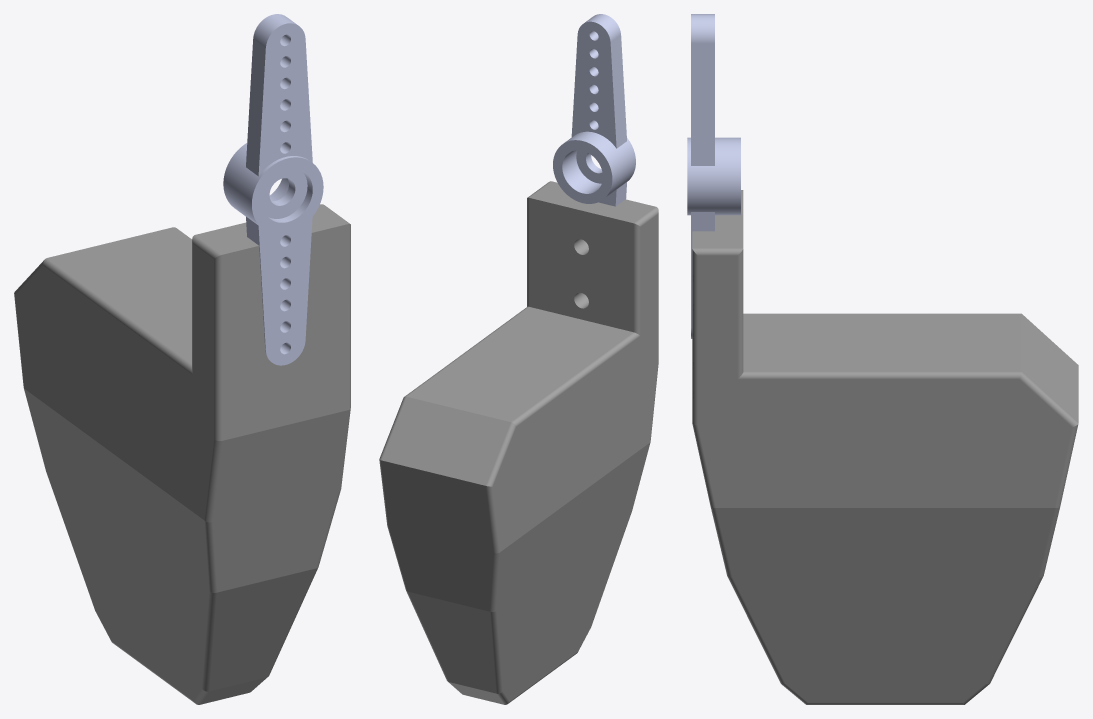
The model's file is finger_3_link2.dae.
The picture shows the model from 3 angles, left to right: view 1: azimuth 30°, elevation 25°; view 2: azimuth 150°, elevation 25°; view 3: azimuth 270°, elevation 25°; orthographic projection. The views are drawn at different scales.
Visible parts, largest first — view 1: finger_3_link2; view 2: finger_3_link2; view 3: finger_3_link2.
Part boxes in pixels (left/top/right/bottom): finger_3_link2: left=14, top=14, right=350, bottom=704; finger_3_link2: left=379, top=14, right=658, bottom=704; finger_3_link2: left=687, top=14, right=1078, bottom=704.
Bounding box in the file's own units: 0.013 × 0.0344 × 0.0657.
